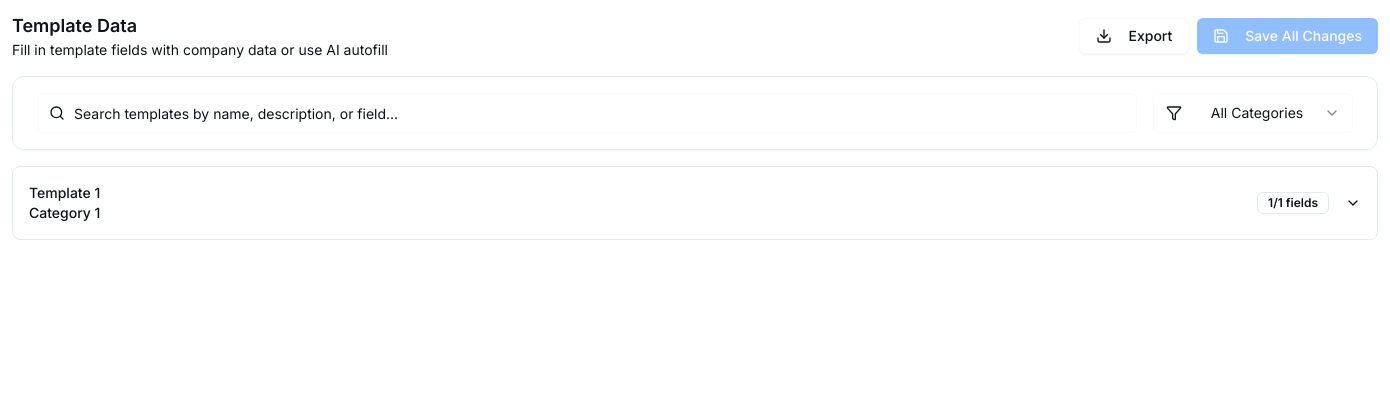
Test: FrameworkSpreadsheet Component › allows editing a field
Check: the text "Template 1" is shown, box [29,183,100,203]
Click the button with test id "accordion-template-temp-1" at [65, 192], box [29,167,1361,239]
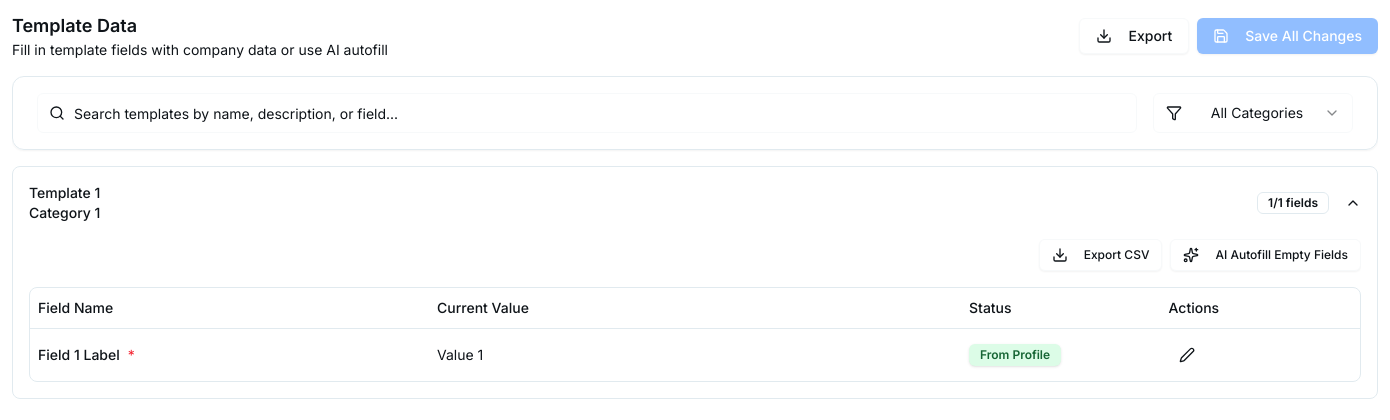
Click the button with test id "button-edit-field-1" at [1186, 354], box [1168,336,1204,372]
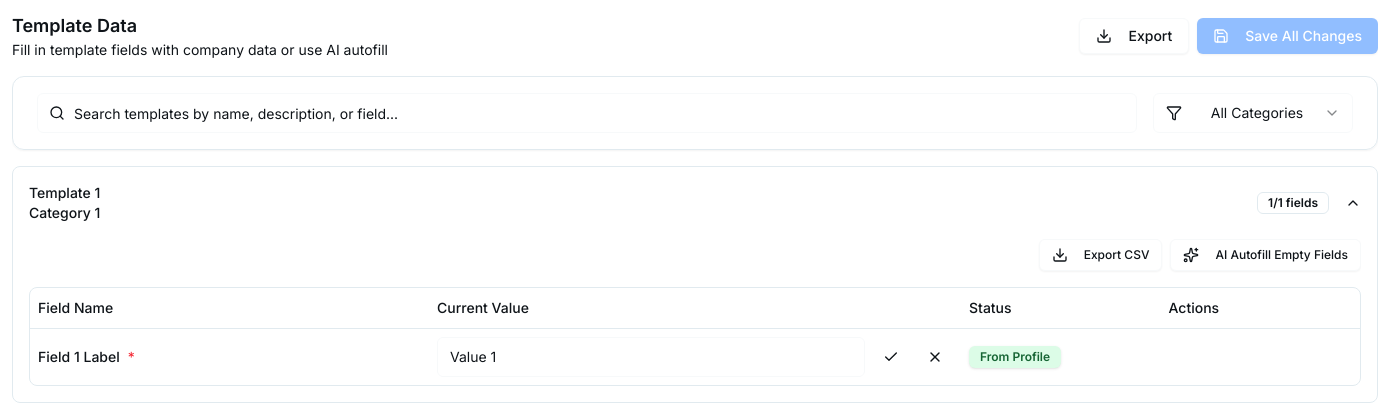
Replace the text in the field with test id "input-edit-field-1" with "New Value" at [651, 356], box [437,336,865,376]
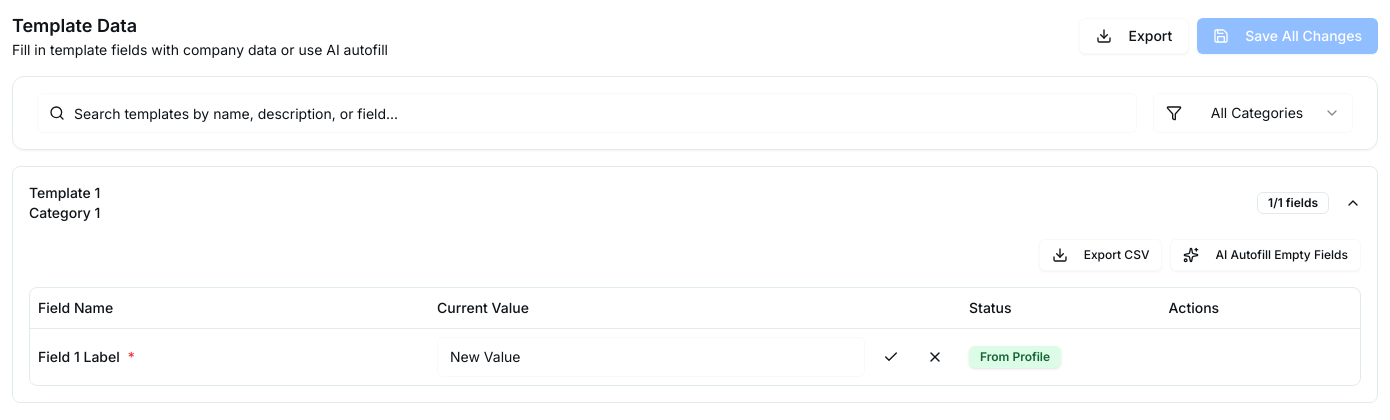
Click the button with test id "button-save-edit-field-1" at [891, 356], box [873,338,909,374]
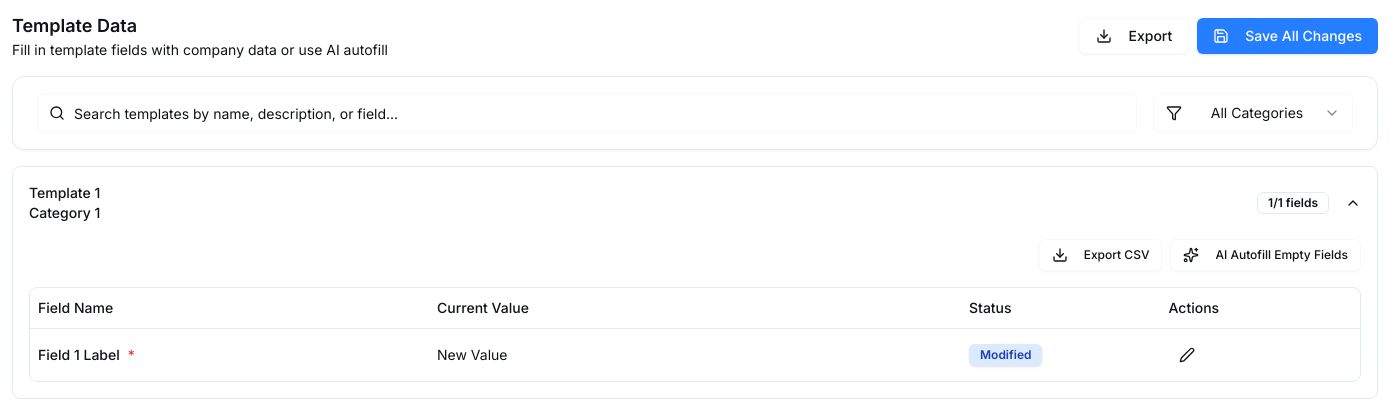
Check: the text with test id "text-value-field-1" reads "New Value", box [437,346,508,362]
Check: the text "Modified" is shown, box [969,344,1042,366]
